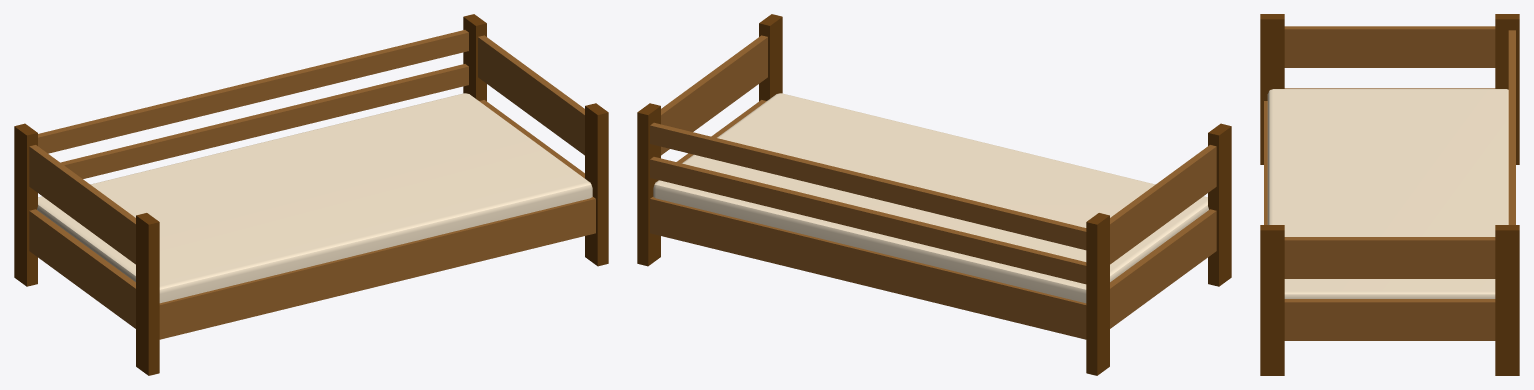
Rendered from M_Sem4_Prop_Einzelbett_FHaufe.fbx.
3 renders of one model, left to right at view 1: azimuth 30°, elevation 25°; view 2: azimuth 150°, elevation 25°; view 3: azimuth 270°, elevation 25°, orthographic. The views are drawn at different scales.
Visible parts, largest first — view 1: halfbed; view 2: halfbed; view 3: halfbed.
Boxes of the visible parts, x1,y1,x2,y2 form: halfbed: [14, 14, 608, 375]; halfbed: [637, 14, 1231, 375]; halfbed: [1260, 14, 1519, 375].
Size of the model in its own units: 209 by 65.73 by 106.
